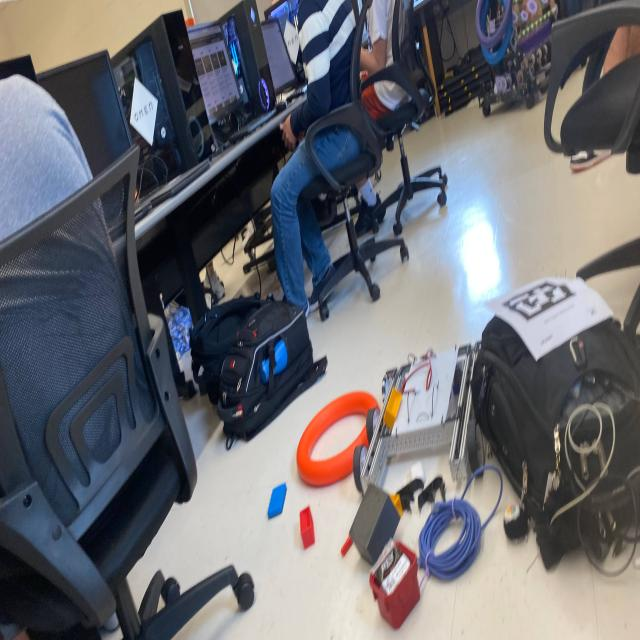red-specimen: (299, 506, 315, 549)
yellow-specimen: (382, 387, 402, 431), (389, 493, 403, 518)
